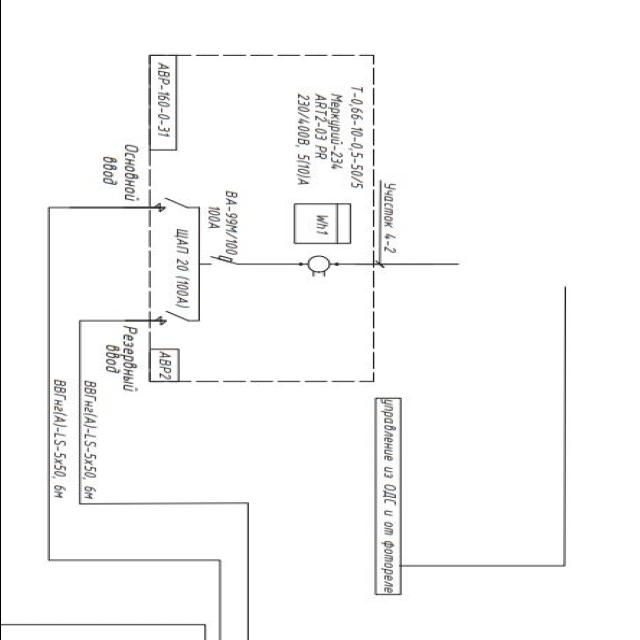-: (294, 90, 346, 188), (202, 188, 242, 256), (170, 226, 193, 312), (348, 84, 366, 190), (149, 61, 172, 141)
KM: (154, 195, 188, 212), (156, 310, 190, 326)
QF: (205, 253, 238, 268)
TT: (305, 252, 331, 278)
WH: (293, 202, 351, 245)
